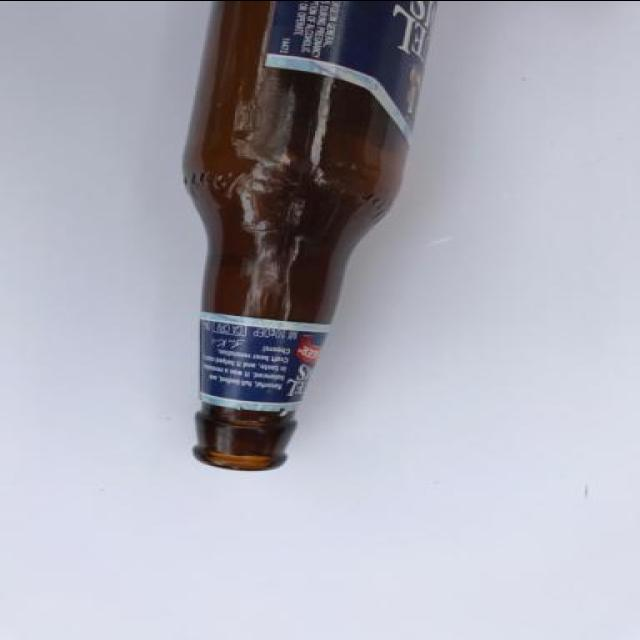litter: (176, 1, 442, 472)
